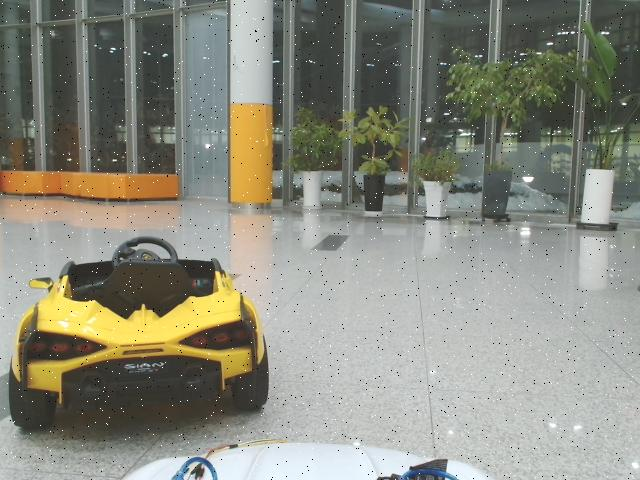car: (9, 235, 269, 432)
